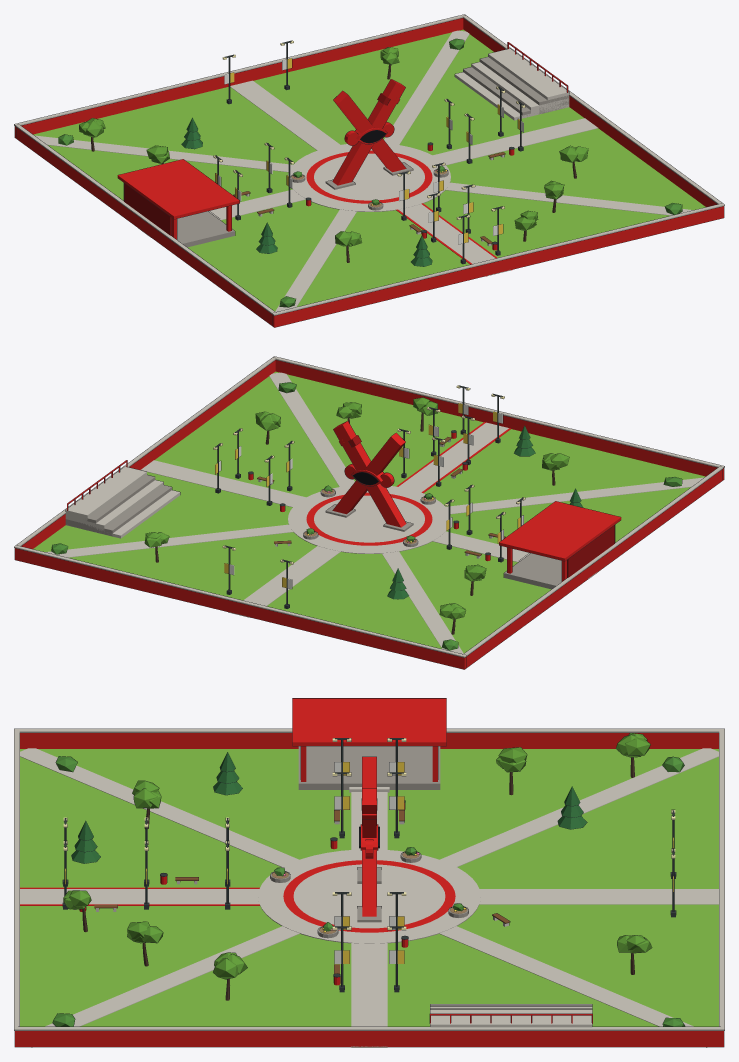
The model's file is Plaza_Restaurada.fbx.
The picture shows the model from 3 angles, top to bottom: view 1: azimuth 30°, elevation 25°; view 2: azimuth 150°, elevation 25°; view 3: azimuth 270°, elevation 25°; orthographic projection. The views are drawn at different scales.
Parts seen in each view (by area): view 1: Restaurada_Suelo, Restaurada_Estructuras, Restaurada_Decoracion, Restaurada_Monumento; view 2: Restaurada_Suelo, Restaurada_Estructuras, Restaurada_Decoracion, Restaurada_Monumento; view 3: Restaurada_Suelo, Restaurada_Estructuras, Restaurada_Decoracion, Restaurada_Monumento.
Boxes of the visible parts, box(x1,y1,x2,y2) form: Restaurada_Suelo: box(33, 29, 705, 325); Restaurada_Estructuras: box(14, 14, 724, 327); Restaurada_Decoracion: box(58, 38, 682, 307); Restaurada_Monumento: box(325, 79, 413, 189); Restaurada_Suelo: box(33, 371, 705, 667); Restaurada_Estructuras: box(14, 356, 724, 669); Restaurada_Decoracion: box(51, 382, 682, 650); Restaurada_Monumento: box(325, 421, 413, 531); Restaurada_Suelo: box(20, 748, 718, 1047); Restaurada_Estructuras: box(14, 698, 724, 1047); Restaurada_Decoracion: box(52, 732, 685, 1026); Restaurada_Monumento: box(357, 756, 381, 922).
Bounding box in the file's own units: 70.18 × 14.43 × 70.18.
Materials: 2 (1 with a texture image).
